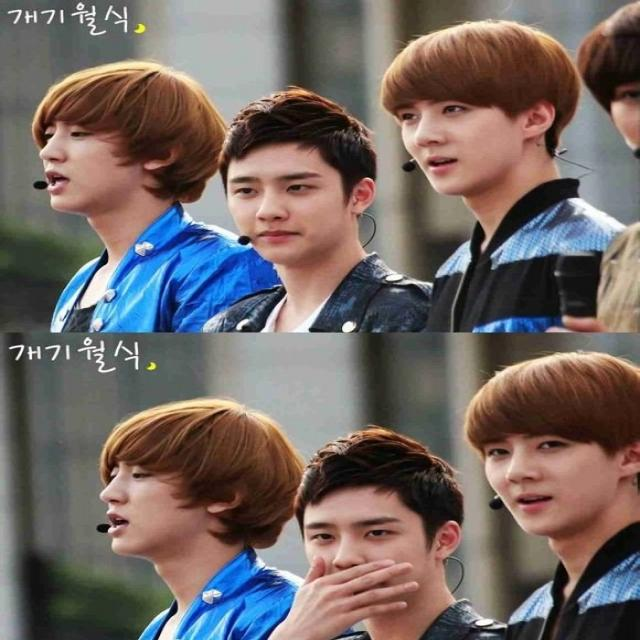nomask: (482, 399, 610, 537), (396, 62, 514, 196), (303, 483, 423, 613), (226, 139, 343, 262), (103, 432, 193, 553), (40, 94, 128, 210)
